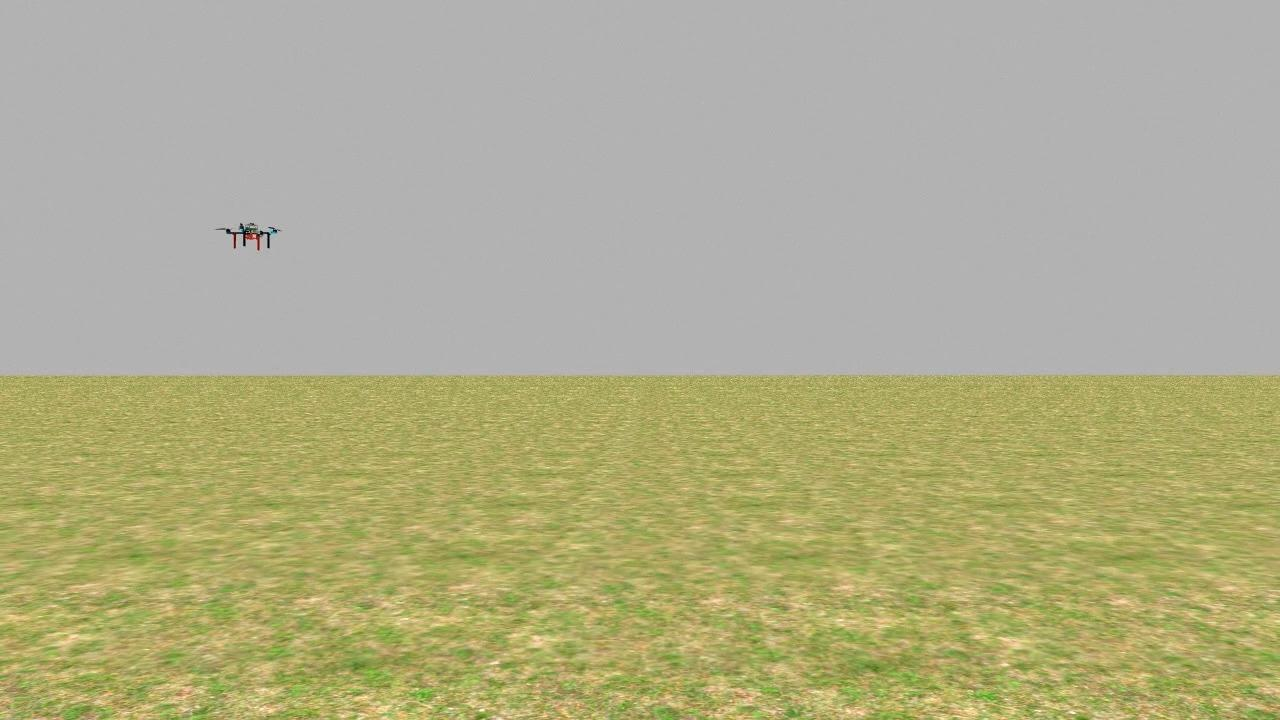UAV: (218, 211, 293, 261)
